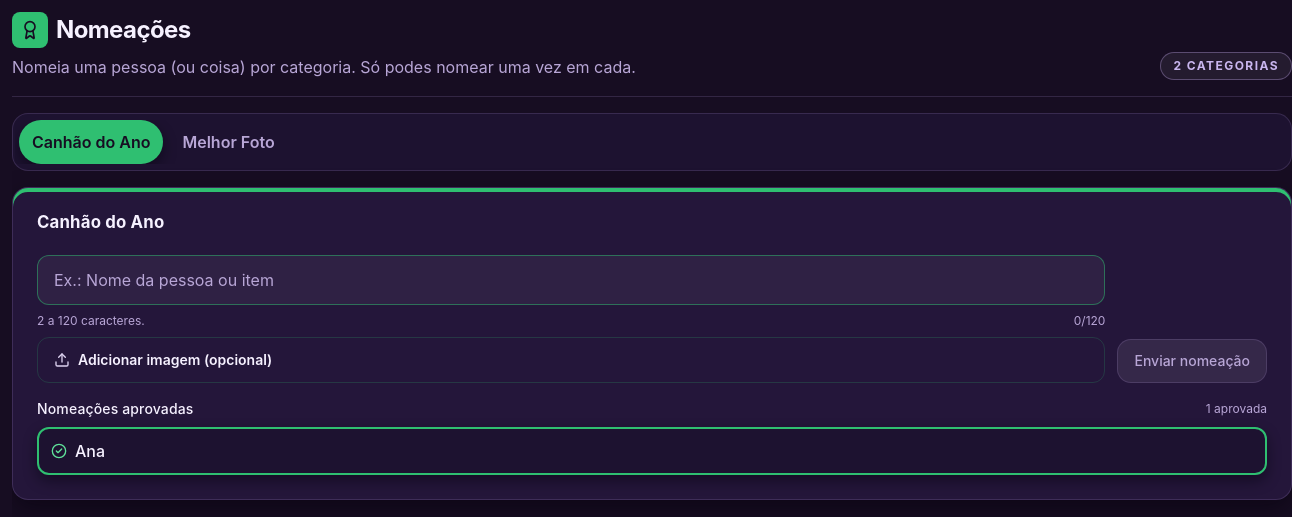
Test: CanhoesNominationsModule › shows the approved nominations of the selected category only
This screenshot has width=1292, height=517.
Expected: the text "Ana" is shown, [75, 438, 105, 462]
Expected: the text "Praia" is not shown
Click the button "Melhor Foto": (229, 142) [170, 120, 288, 164]
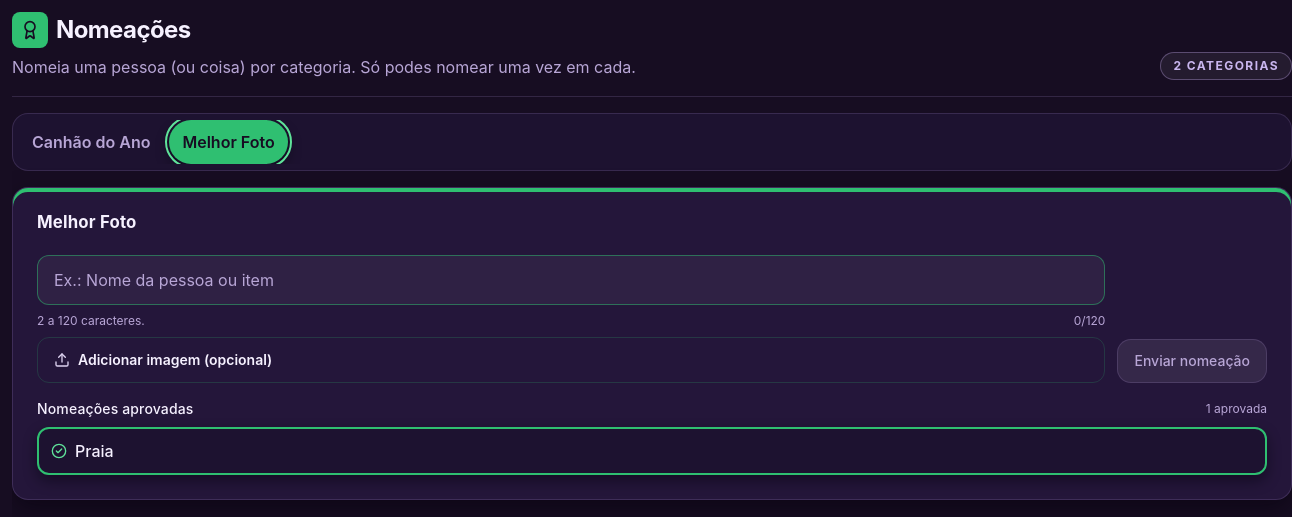
Result: the text "Praia" is shown at [75, 438, 114, 462]
